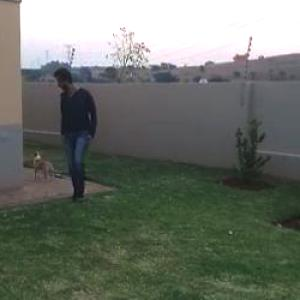follow: (53, 61, 96, 210)
